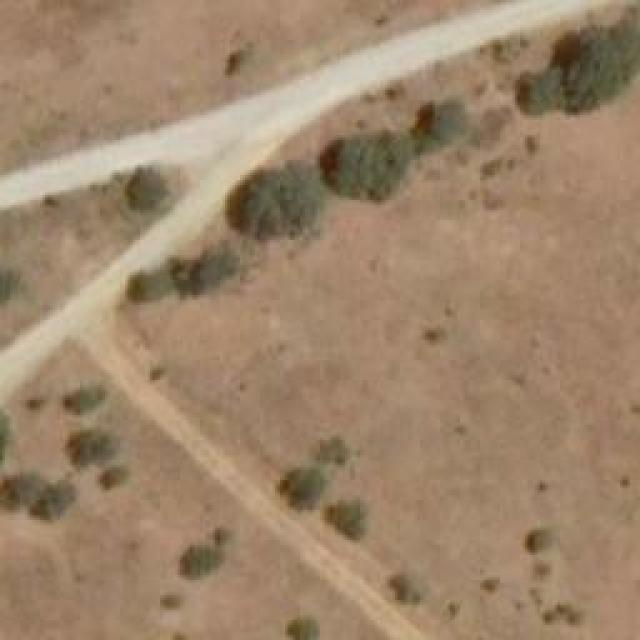Tree: (550, 23, 640, 113), (225, 163, 318, 246), (322, 130, 400, 195), (410, 100, 465, 155), (280, 463, 328, 513), (175, 248, 230, 291), (505, 75, 550, 123), (325, 503, 368, 546), (70, 430, 113, 470), (175, 543, 218, 583), (127, 168, 165, 213), (0, 470, 35, 510), (133, 265, 168, 298), (220, 47, 252, 80), (25, 495, 60, 525), (315, 436, 345, 468), (65, 387, 98, 415), (288, 612, 318, 640), (522, 528, 550, 558), (390, 572, 415, 600), (100, 468, 126, 491), (23, 393, 45, 417), (210, 523, 233, 545), (158, 592, 181, 610)
